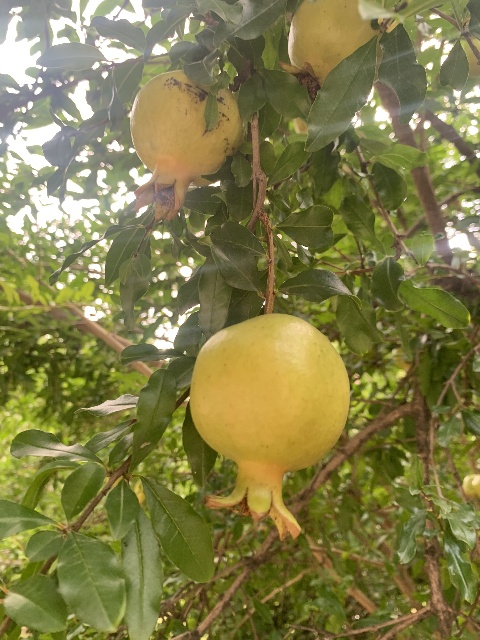mid-growth: (189, 314, 350, 543), (129, 70, 244, 222), (278, 0, 383, 105)
